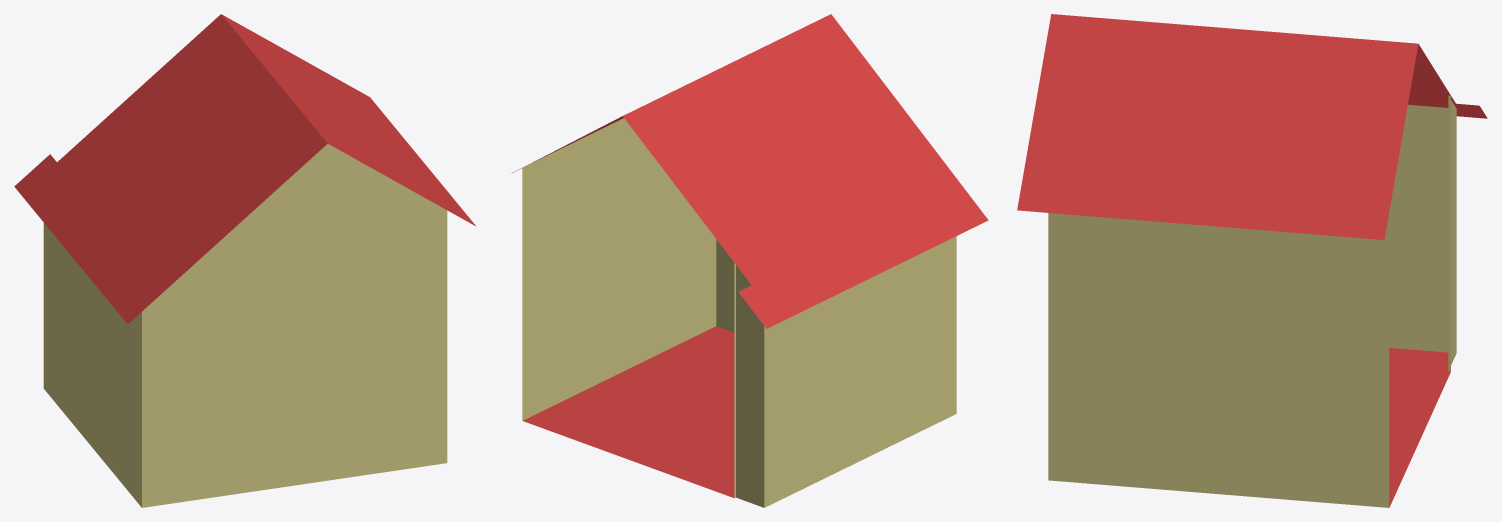
The picture shows the model from 3 angles, left to right: view 1: azimuth 30°, elevation 25°; view 2: azimuth 150°, elevation 25°; view 3: azimuth 270°, elevation 25°; orthographic projection. The views are drawn at different scales.
Bounding box in the file's own units: 13.75 × 13.26 × 12.43.
